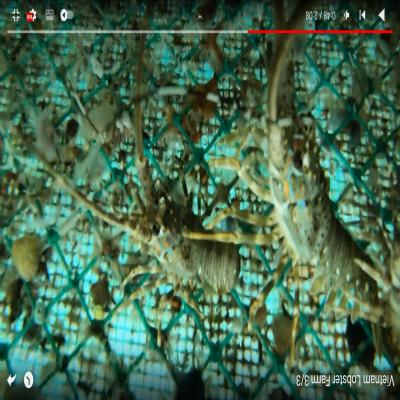lobster: (269, 92, 371, 300), (136, 170, 241, 299)
